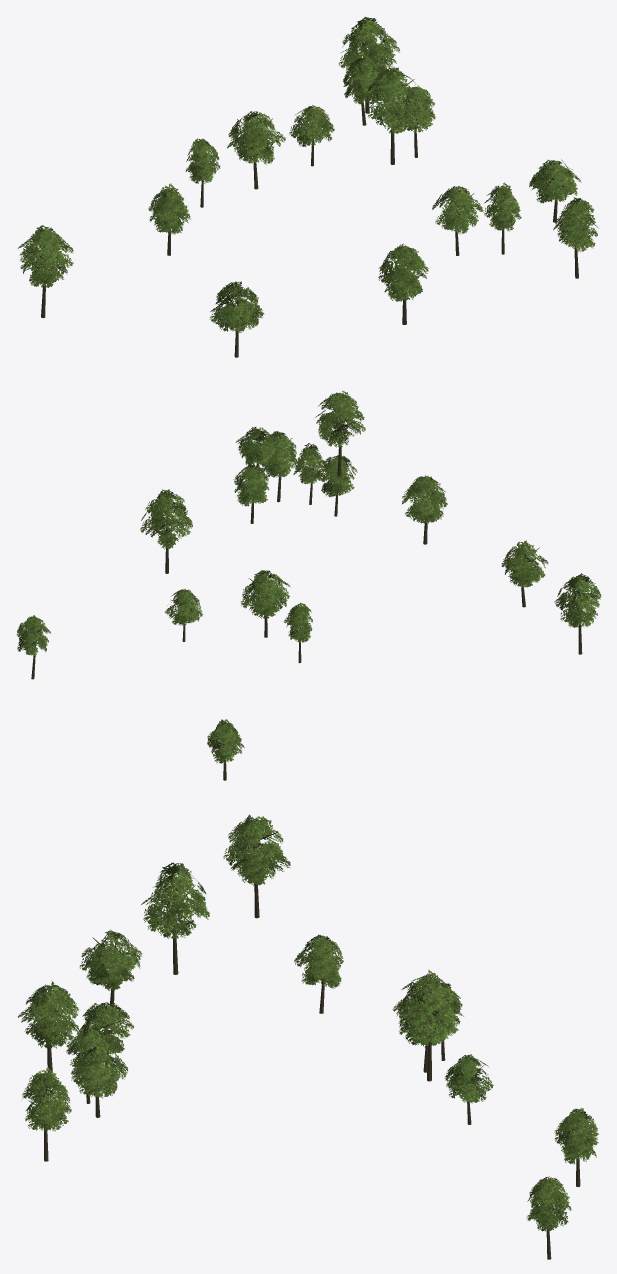
Rendered from TRB8-FOREST-CHUNK-6-0.glb.
3 views of the same model, one above another, from view 1: azimuth 30°, elevation 25°; view 2: azimuth 150°, elevation 25°; view 3: azimuth 270°, elevation 25° (orthographic). The views are drawn at different scales.
Visible parts, largest first — view 1: TRB8-FOREST-CHUNK-6-0; view 2: TRB8-FOREST-CHUNK-6-0; view 3: TRB8-FOREST-CHUNK-6-0.
Boxes of the visible parts, x1,y1,x2,y2 form: TRB8-FOREST-CHUNK-6-0: (18, 17, 598, 357); TRB8-FOREST-CHUNK-6-0: (16, 390, 601, 780); TRB8-FOREST-CHUNK-6-0: (18, 814, 598, 1259).
Size of the model in its own units: 35.22 by 19.09 by 29.21.
2 materials, 1 textured.
